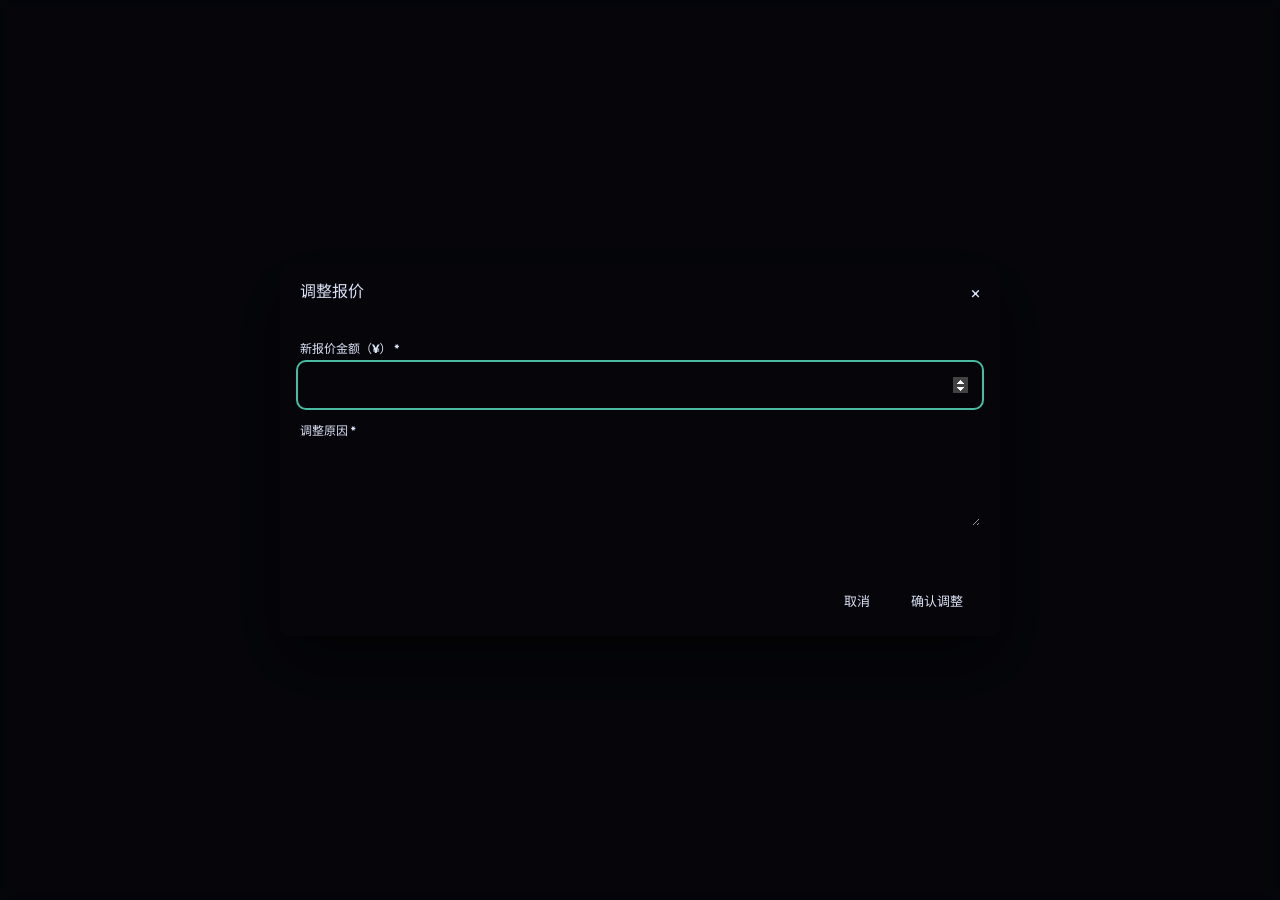
Test: QuoteChangeDialog › 空金额提交 → 显示"请输入有效金额"
What coordinates should you click on to do the following:
click the button "确认调整"
I would click on:
 (937, 602)
Its box is 894,584 -> 980,620.
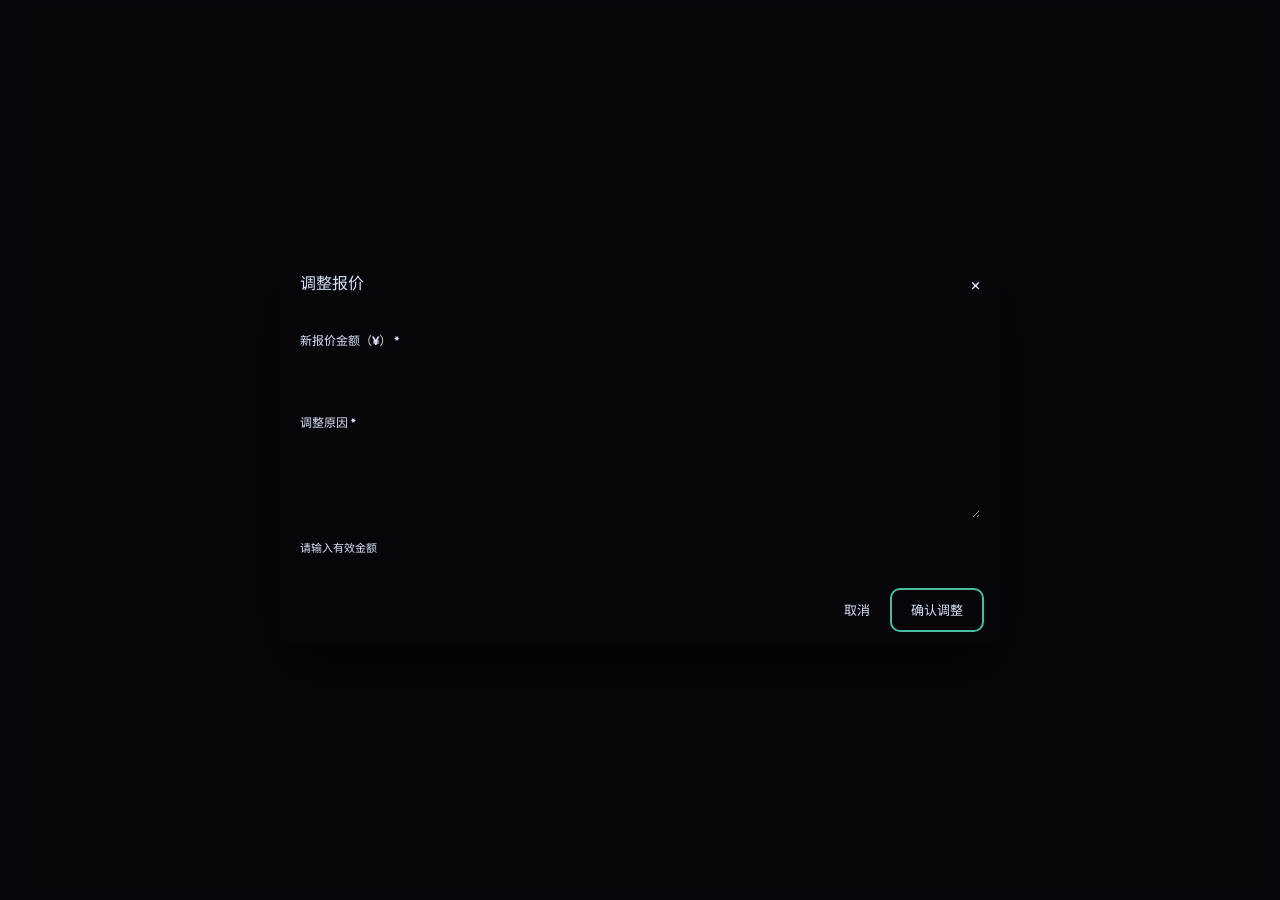
Result: the text "请输入有效金额" is shown at 300,540 -> 377,554
